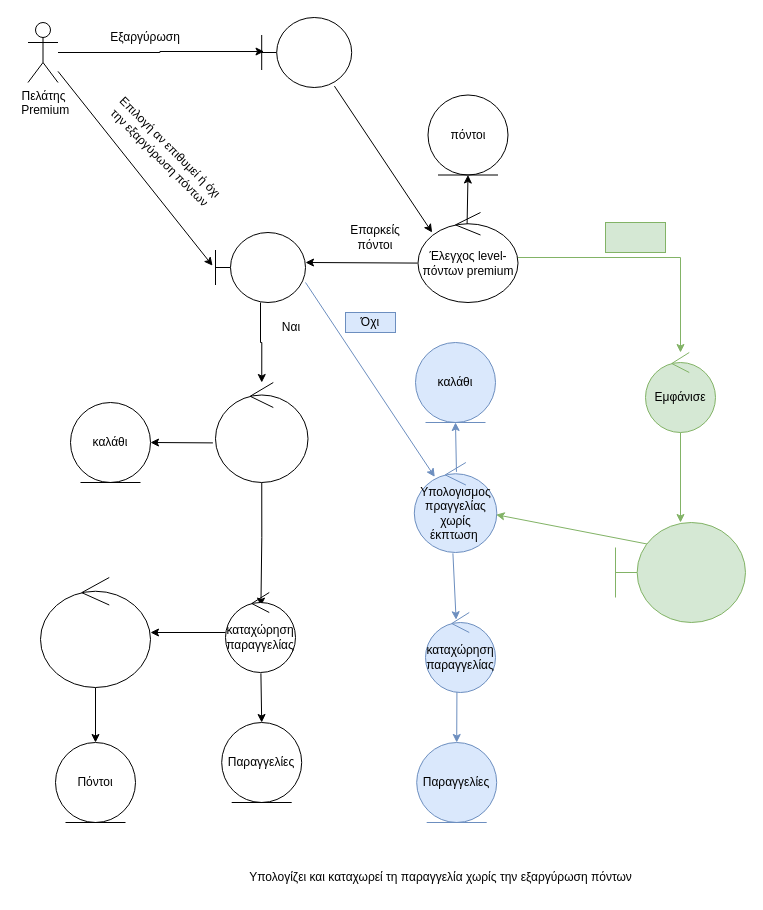
This 763x910 diagram has some shape labels left out. Here are the shapes that lost their labels. From the top down, the centre of each, then its label:
At pixel 306 52: "Εξαργύρωση πόντων".
At pixel 635 237: "Ανεπαρκείς πόντοι".
At pixel 260 267: "Επιβεβαίωση εξαργύρωσης πόντων ή όχι".
At pixel 261 432: "Υπολογίζει την τελική τιμή με έκπτωση".
At pixel 680 572: "Mήνυμα ανεπαρκείς πόντοι δεν επαρκούν για εξαργύρωση".
At pixel 95 632: "Ανανέωνει τους πόντους μετά την εξαργύρωση πόντνων του χρήστη".
